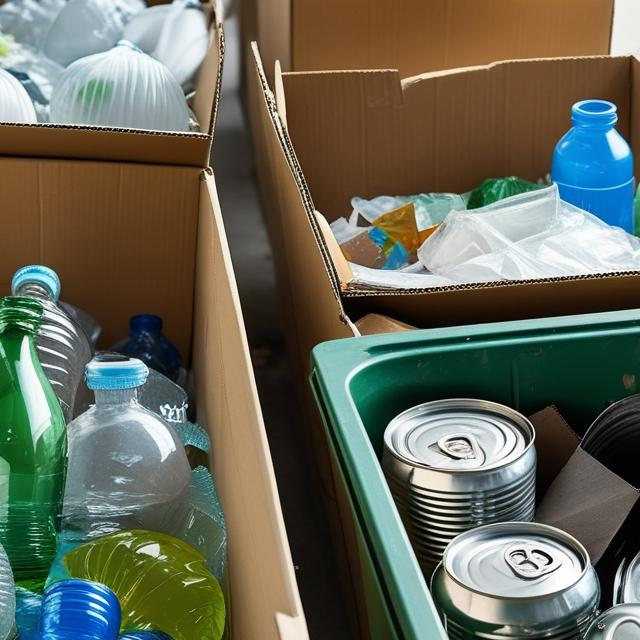metal: (386, 403, 545, 520), (443, 532, 580, 640), (593, 378, 640, 479)
plastic: (85, 350, 207, 576), (330, 191, 591, 268), (0, 303, 59, 566), (564, 99, 640, 263), (0, 0, 214, 54), (0, 59, 196, 115), (46, 582, 224, 640)
